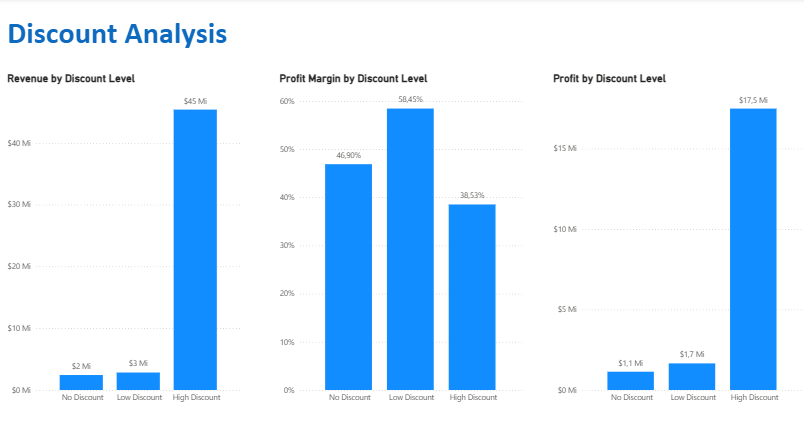

The dashboard page shown, as its layout file describes it:
{"tool":"powerbi","page":{"name":"Discount Analysis","canvas":[1280,720],"ordinal":4},"visuals":[{"type":"textbox","box":[10,0,280,280],"z":0},{"type":"textbox","box":[9.5,20.9,364.4,140.4],"z":1000},{"type":"columnChart","title":"Revenue by Discount Level","fields":{"Category":["fact_sales.Discount Band"],"Y":["fact_sales.Total Revenue"]},"box":[9.5,117.7,381.5,533.3],"z":2000},{"type":"columnChart","title":"Profit Margin by Discount Level","fields":{"Category":["fact_sales.Discount Band"],"Y":["fact_sales.Margin %"]},"box":[440.3,117.7,394.8,533.3],"z":3000},{"type":"columnChart","title":"Profit by Discount Level","fields":{"Category":["fact_sales.Discount Band"],"Y":["fact_sales.Total Profit"]},"box":[873.1,117.7,406.2,533.3],"z":4000}]}

Visuals, with their boxes in screenshot pixels (x1, y1, x2, y2), scaled from the page's 1280x720 canvas onto the 804x443 screenshot:
textbox: 6 0 182 172
textbox: 6 13 235 99
"Revenue by Discount Level" columnChart: 6 72 246 401
"Profit Margin by Discount Level" columnChart: 277 72 525 401
"Profit by Discount Level" columnChart: 548 72 803 401
